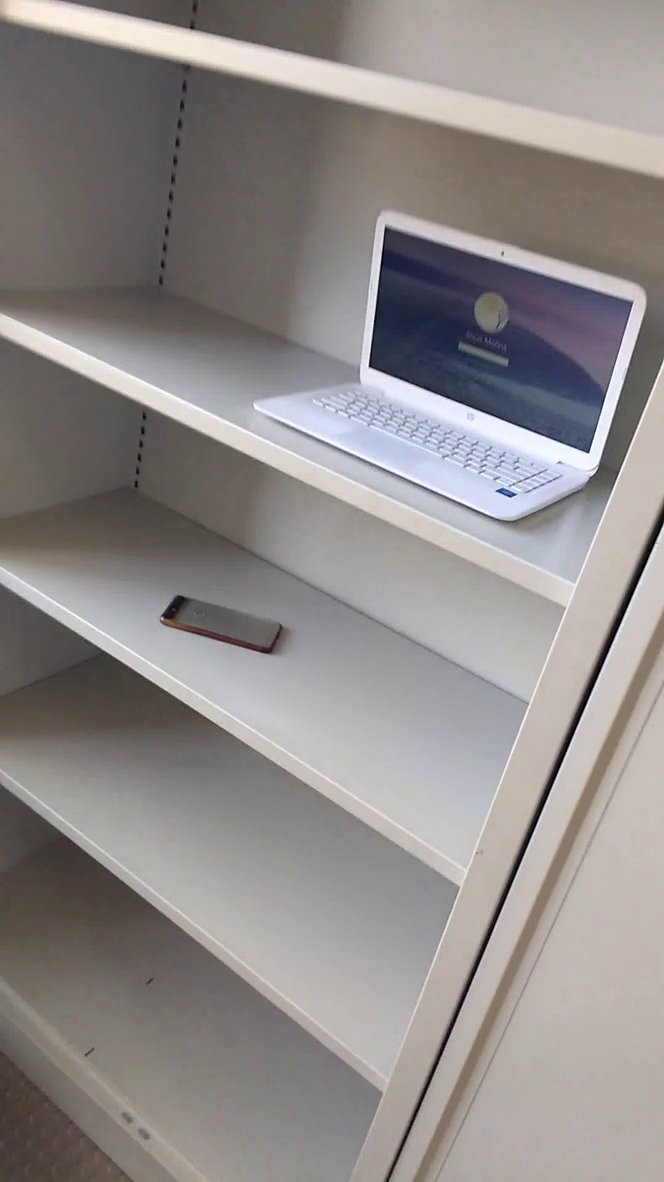laptop: (244, 203, 664, 538)
phone: (154, 589, 292, 661)
